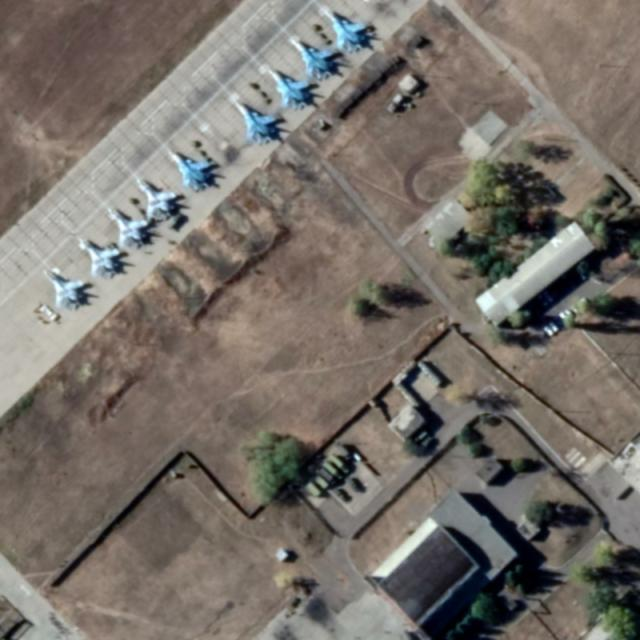fighter jet: (291, 34, 340, 81), (322, 3, 372, 48), (39, 266, 87, 310), (232, 100, 280, 144), (266, 66, 310, 110), (136, 179, 180, 220), (170, 150, 214, 190), (78, 238, 123, 276), (107, 206, 148, 246)
